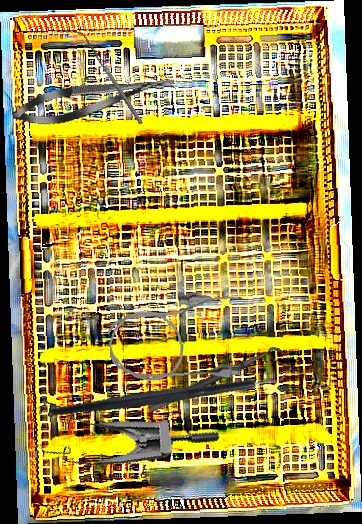Cannula: (105, 288, 249, 388)
Chopper: (47, 315, 295, 465)
Fixation Ring: (147, 343, 288, 425)
Micro Scissor: (9, 65, 178, 133)
Spatula Surgical: (74, 27, 144, 128)
Speculum: (19, 356, 222, 495)
